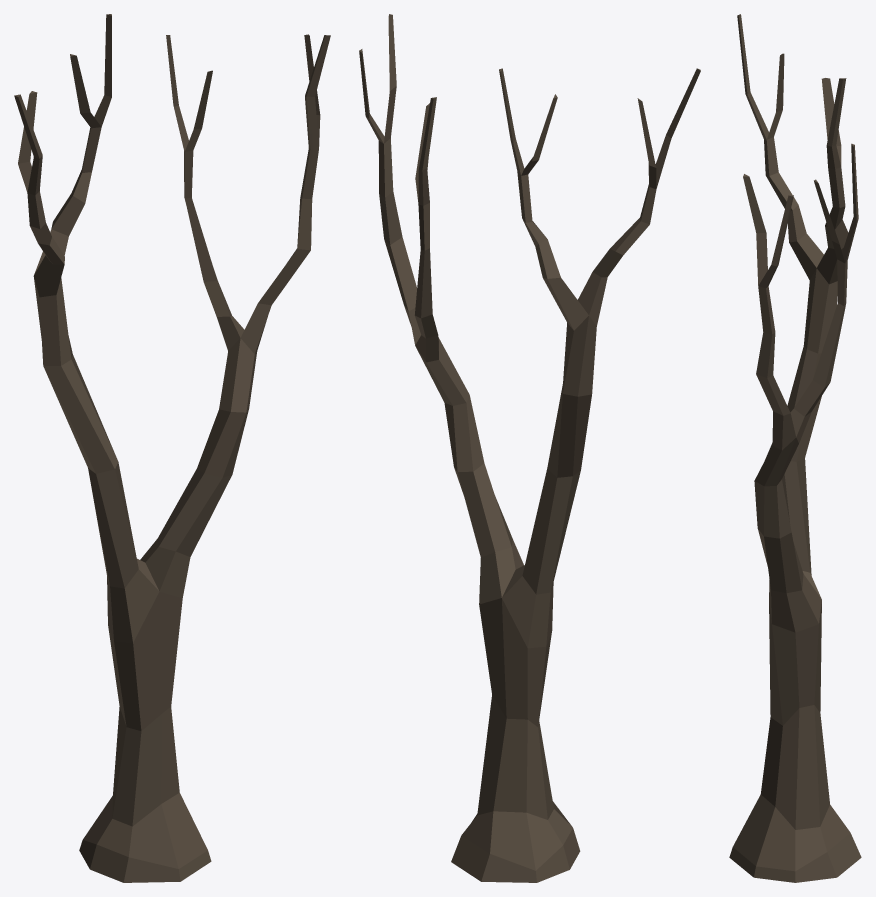
The model's file is SM_Env_Tree_Dead_01.glb.
The picture shows the model from 3 angles, left to right: view 1: azimuth 30°, elevation 25°; view 2: azimuth 150°, elevation 25°; view 3: azimuth 270°, elevation 25°; orthographic projection. The views are drawn at different scales.
Parts seen in each view (by area): view 1: SM_Env_Tree_Dead_01; view 2: SM_Env_Tree_Dead_01; view 3: SM_Env_Tree_Dead_01.
Boxes of the visible parts, <box> form: SM_Env_Tree_Dead_01: <box>14,14,330,882</box>; SM_Env_Tree_Dead_01: <box>359,14,700,882</box>; SM_Env_Tree_Dead_01: <box>729,14,861,882</box>.
Bounding box in the file's own units: 0.0416 × 0.1014 × 0.0157.
